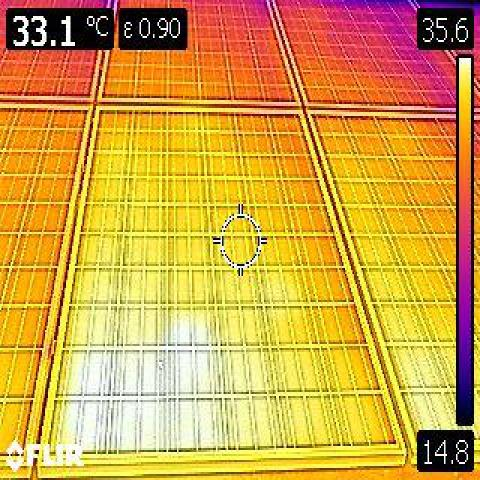fault: (68, 338, 226, 450)
